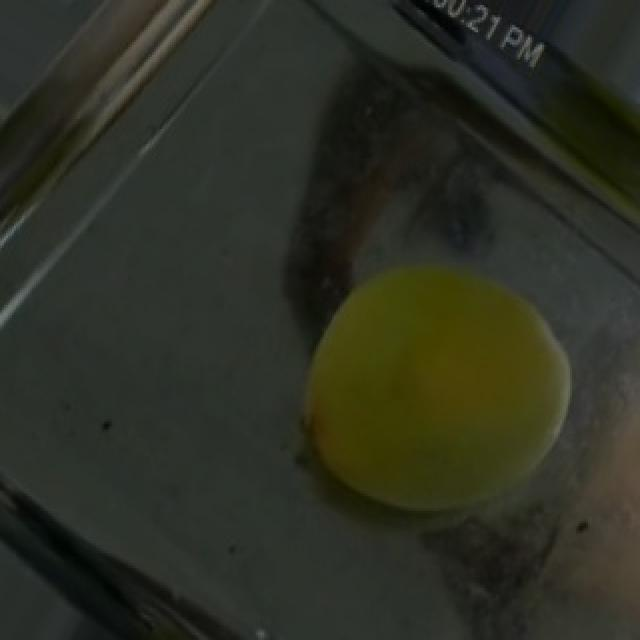fruit: (270, 215, 614, 560)
